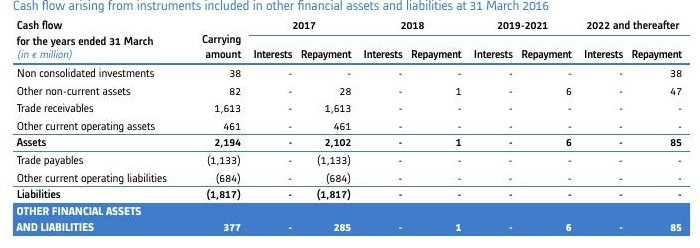table: (0, 0, 700, 248)
